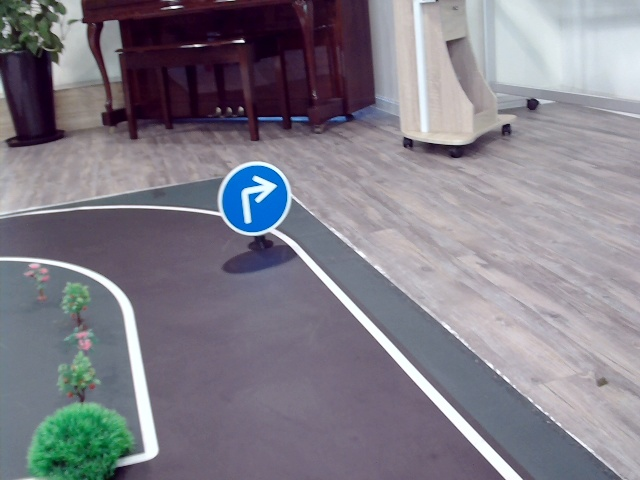turn_right: (238, 176, 276, 220)
